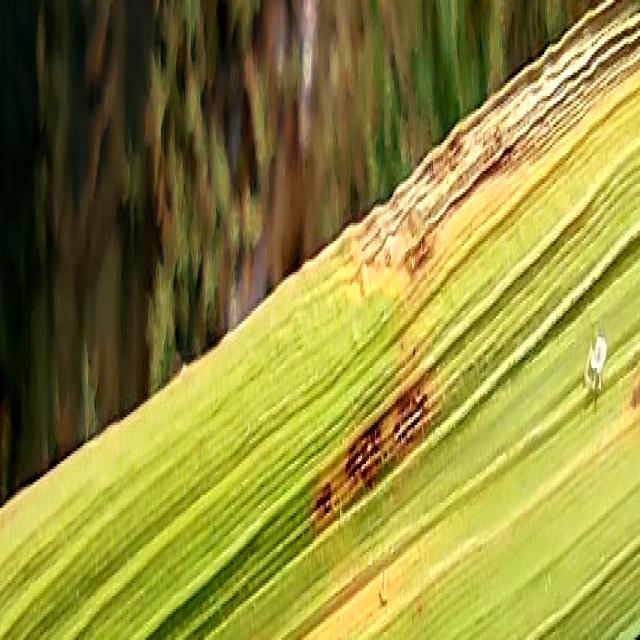LEAF BLAST: (392, 379, 430, 460), (346, 420, 388, 493)
